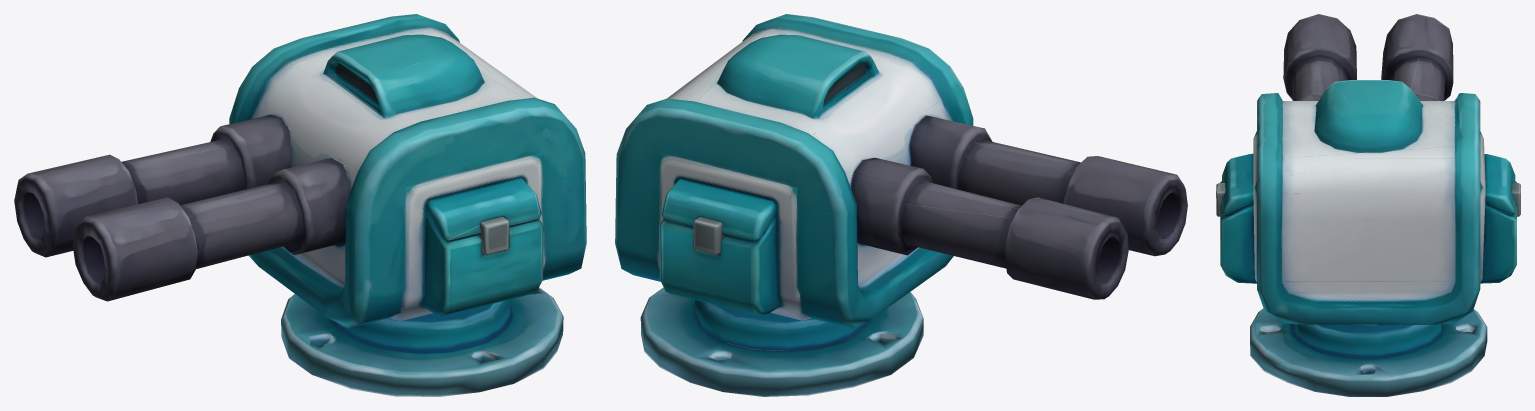
The model's file is weapon_mg.glb.
3 views of the same model, side by side, from view 1: azimuth 30°, elevation 25°; view 2: azimuth 150°, elevation 25°; view 3: azimuth 270°, elevation 25° (orthographic). The views are drawn at different scales.
Visible parts, largest first — view 1: geometry_0; view 2: geometry_0; view 3: geometry_0.
Part boxes in pixels (bbox=[...]): geometry_0: bbox=[14, 14, 586, 396]; geometry_0: bbox=[615, 14, 1187, 396]; geometry_0: bbox=[1216, 14, 1520, 396].
Size of the model in its own units: 0.9556 by 0.5488 by 0.6279.
Materials: 1 (1 with a texture image).
